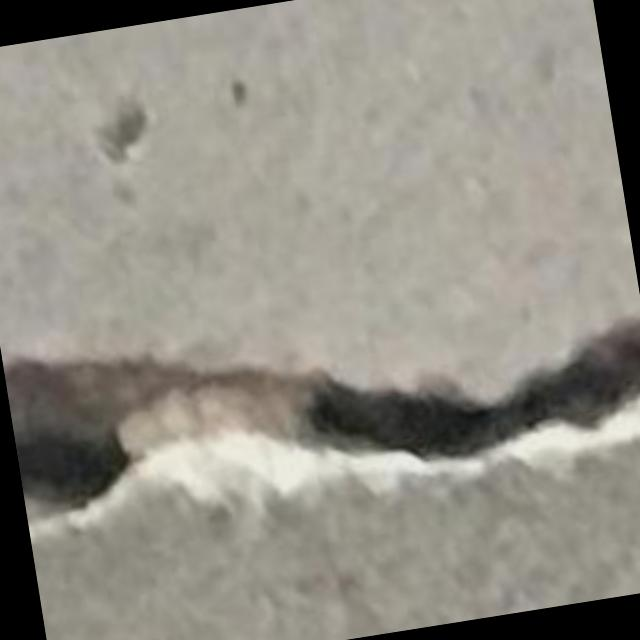crack: (4, 321, 639, 523)
